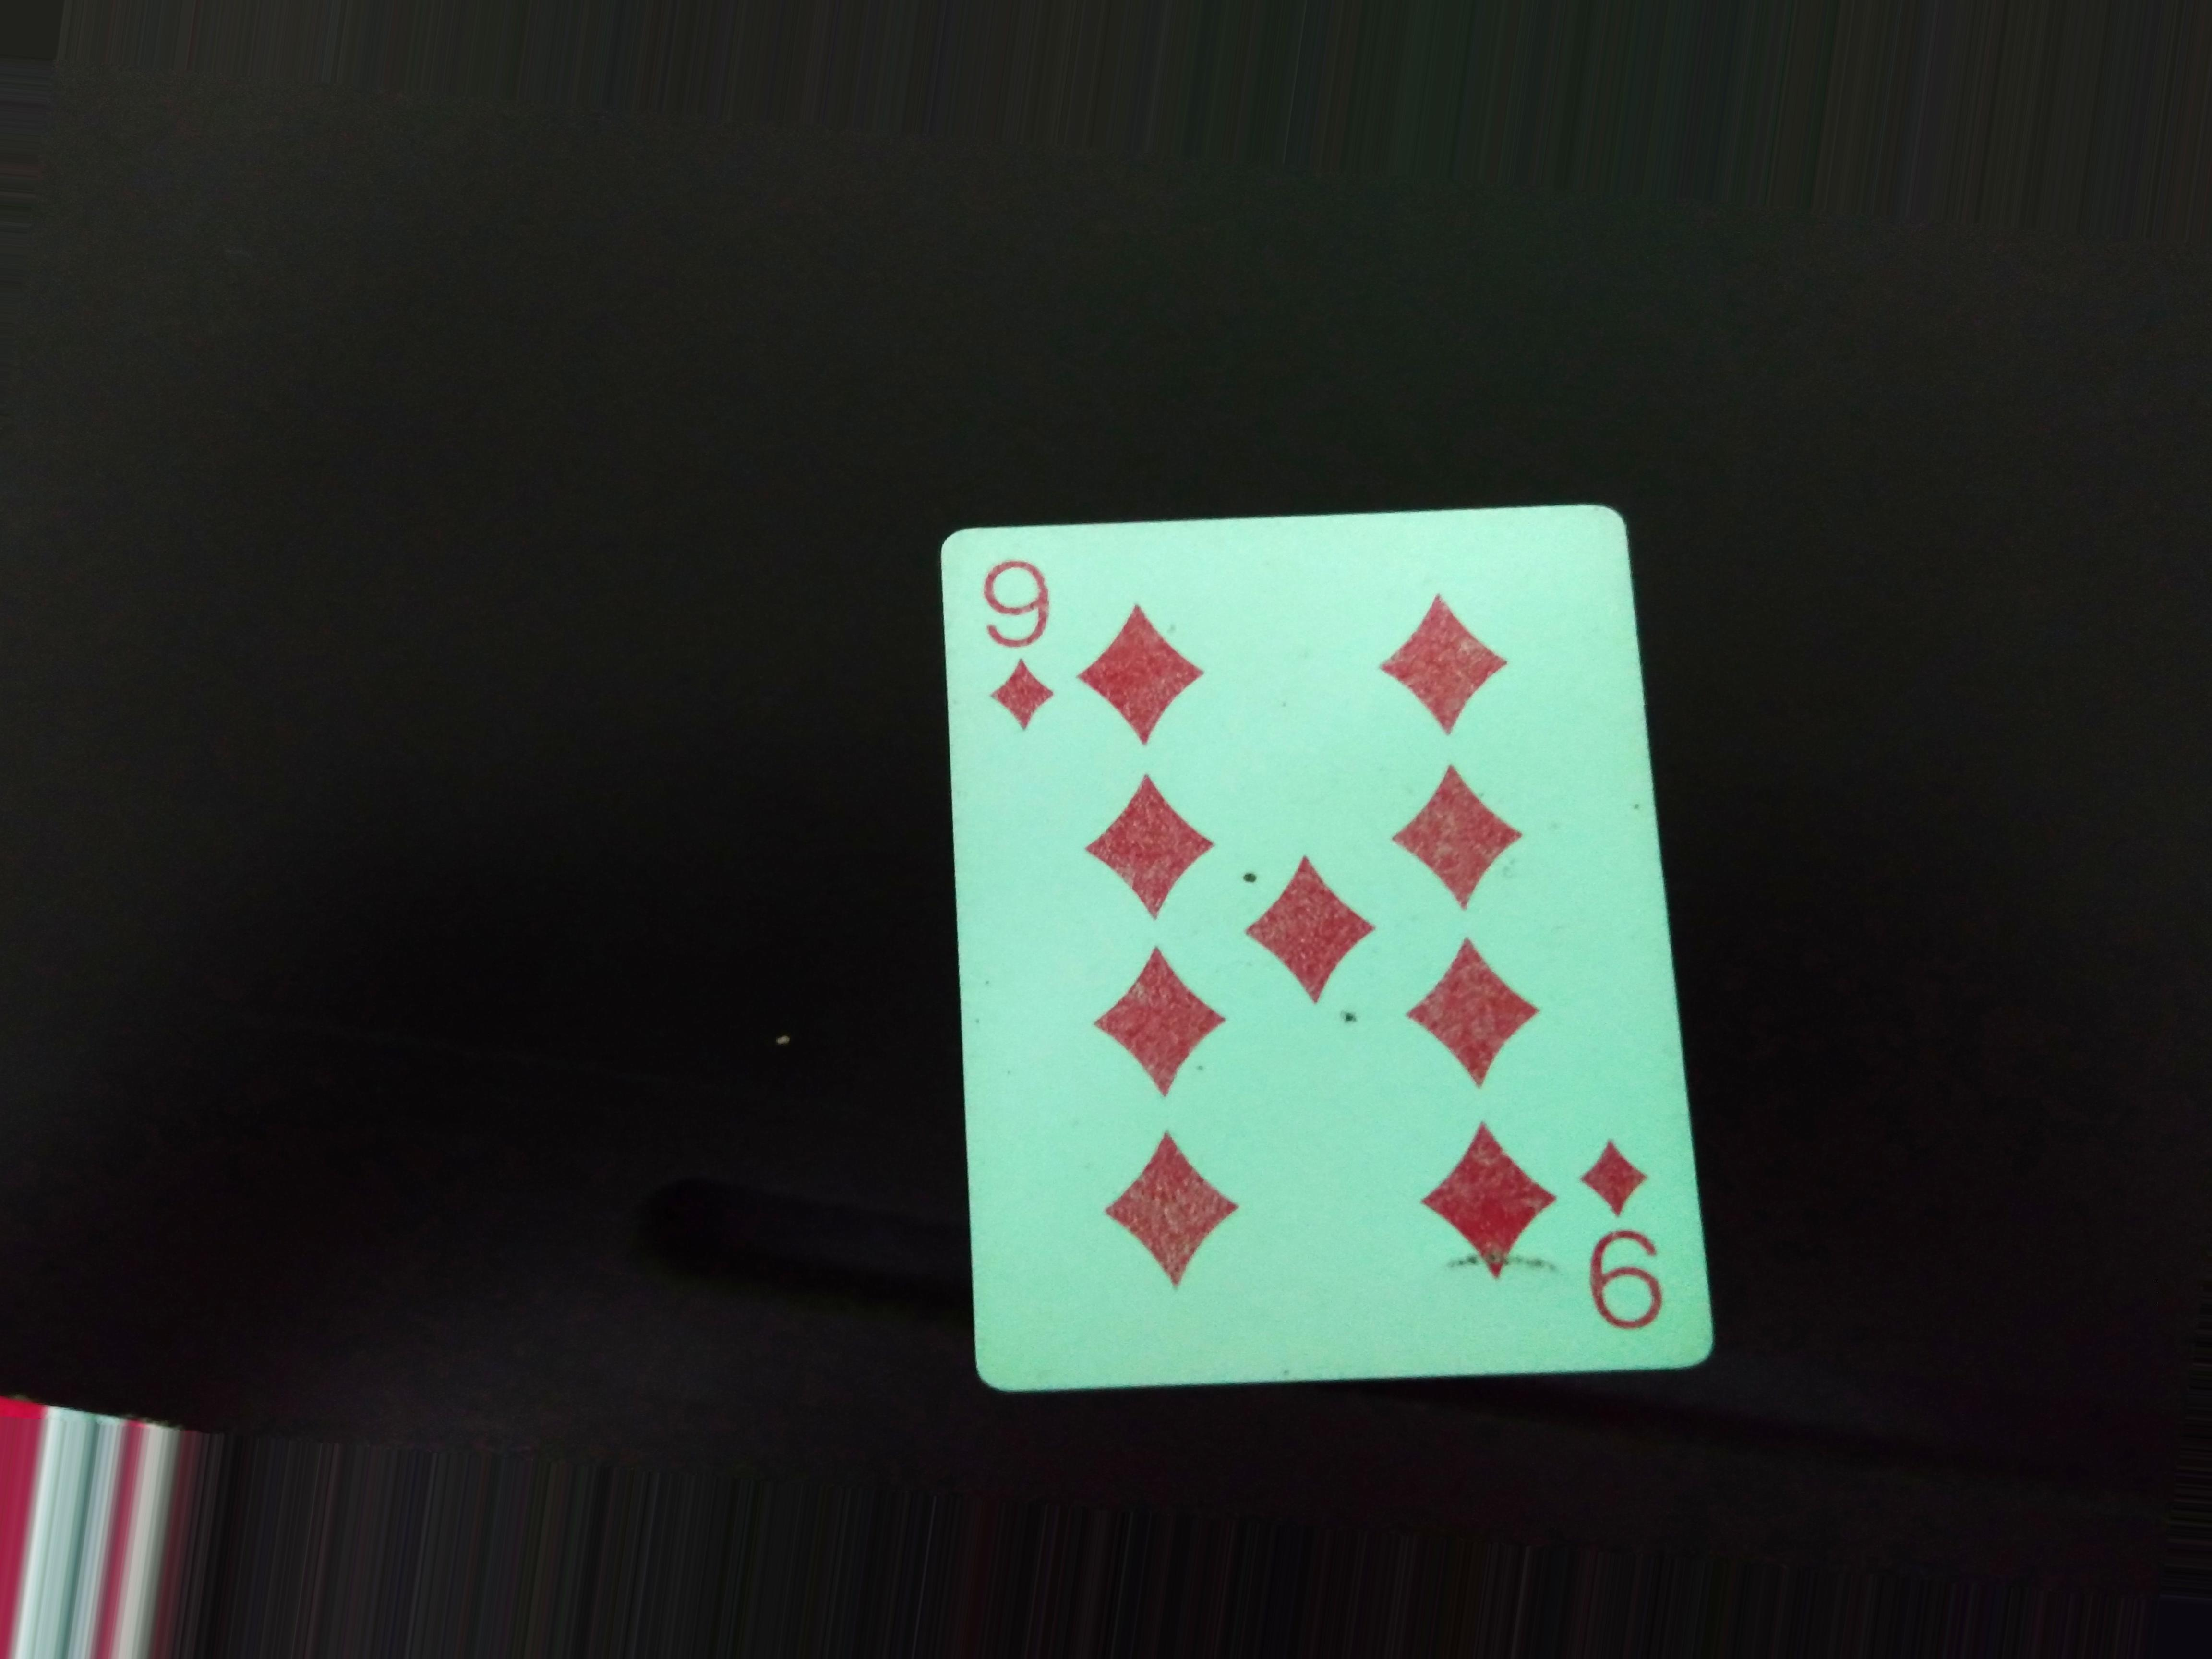9D: (960, 544, 1082, 781)
